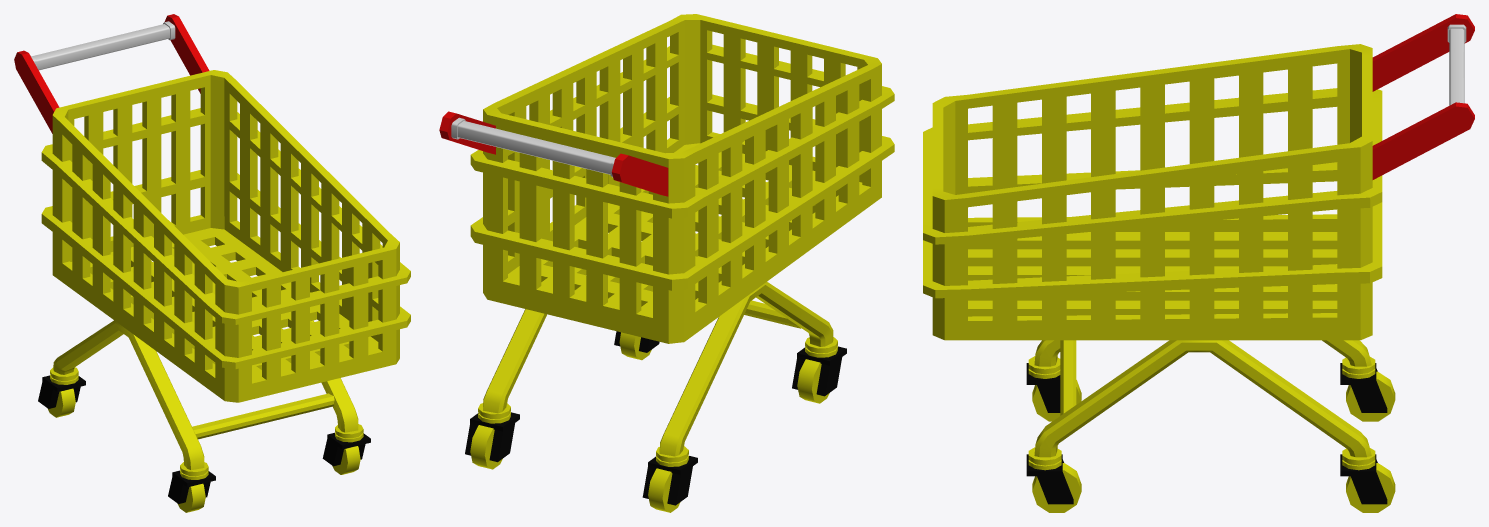
Rendered from ShopingTrolley.fbx.
3 renders of one model, left to right at view 1: azimuth 30°, elevation 25°; view 2: azimuth 150°, elevation 25°; view 3: azimuth 270°, elevation 25°, orthographic. The views are drawn at different scales.
Parts seen in each view (by area): view 1: ShopingTrolley; view 2: ShopingTrolley; view 3: ShopingTrolley.
Part boxes in pixels (x1,y1,x2,y2): ShopingTrolley: [14, 14, 410, 512]; ShopingTrolley: [439, 14, 894, 512]; ShopingTrolley: [923, 14, 1474, 512].
Bounding box in the file's own units: 71.33 × 120 × 149.
